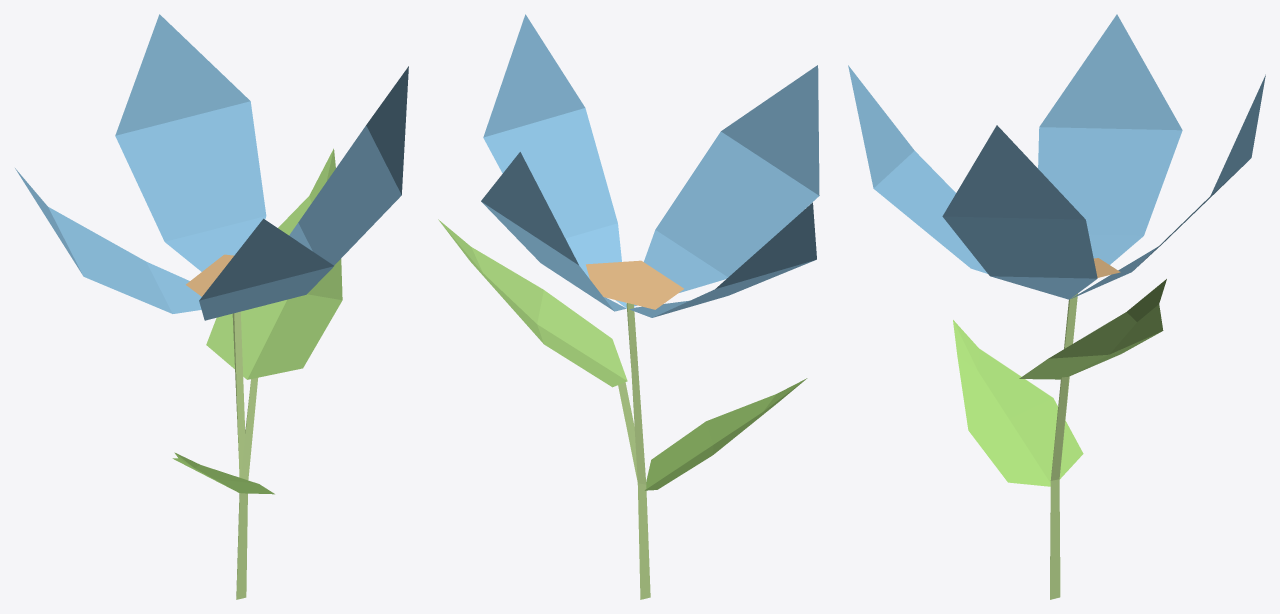
File: Flower_a_OneS_08.fbx
The picture shows the model from 3 angles, left to right: view 1: azimuth 30°, elevation 25°; view 2: azimuth 150°, elevation 25°; view 3: azimuth 270°, elevation 25°; orthographic projection. The views are drawn at different scales.
Visible parts, largest first — view 1: Flower_a_OneS_08; view 2: Flower_a_OneS_08; view 3: Flower_a_OneS_08.
Boxes of the visible parts, <box> form: Flower_a_OneS_08: <box>15,14,408,599</box>; Flower_a_OneS_08: <box>438,14,819,599</box>; Flower_a_OneS_08: <box>848,14,1265,599</box>.
Bounding box in the file's own units: 41.58 × 59.72 × 41.43.
